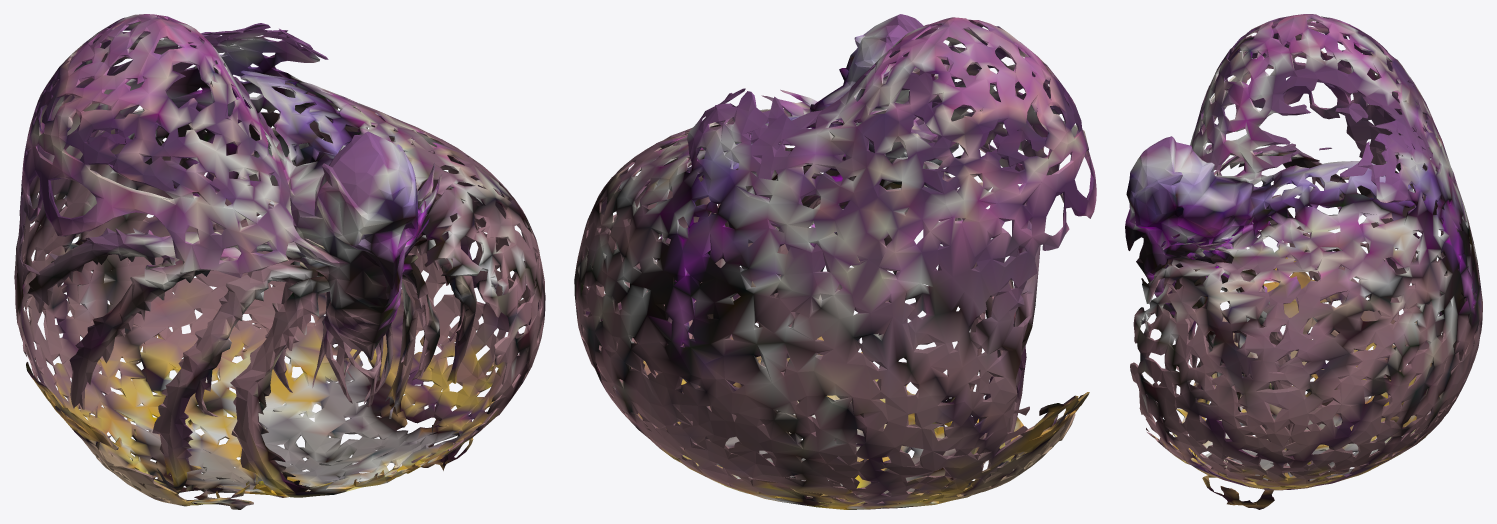
File: spiderQueenSummon.glb
3 views of the same model, side by side, from view 1: azimuth 30°, elevation 25°; view 2: azimuth 150°, elevation 25°; view 3: azimuth 270°, elevation 25° (orthographic). The views are drawn at different scales.
Parts seen in each view (by area): view 1: world; view 2: world; view 3: world.
Part boxes in pixels (bbox=[...]): world: bbox=[14, 14, 545, 509]; world: bbox=[574, 14, 1096, 509]; world: bbox=[1125, 14, 1482, 509].
Bounding box in the file's own units: 1 × 1 × 0.8041.
